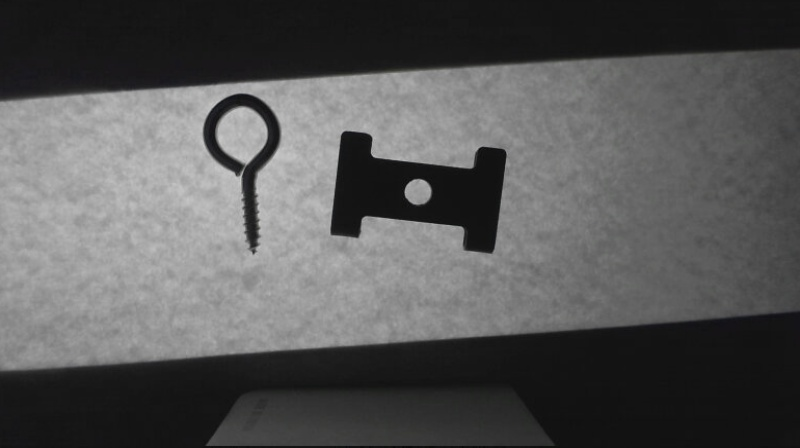O001: (201, 92, 284, 257)
O002: (331, 130, 506, 253)
